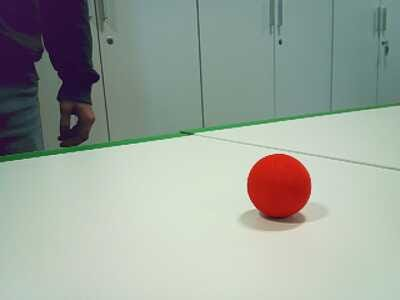bola_cerca: (245, 151, 308, 218)
